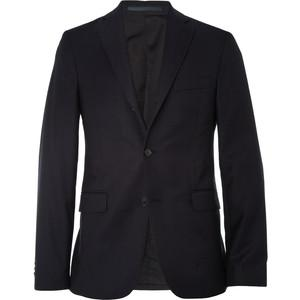F_M_suit jacket: (29, 1, 272, 292)
